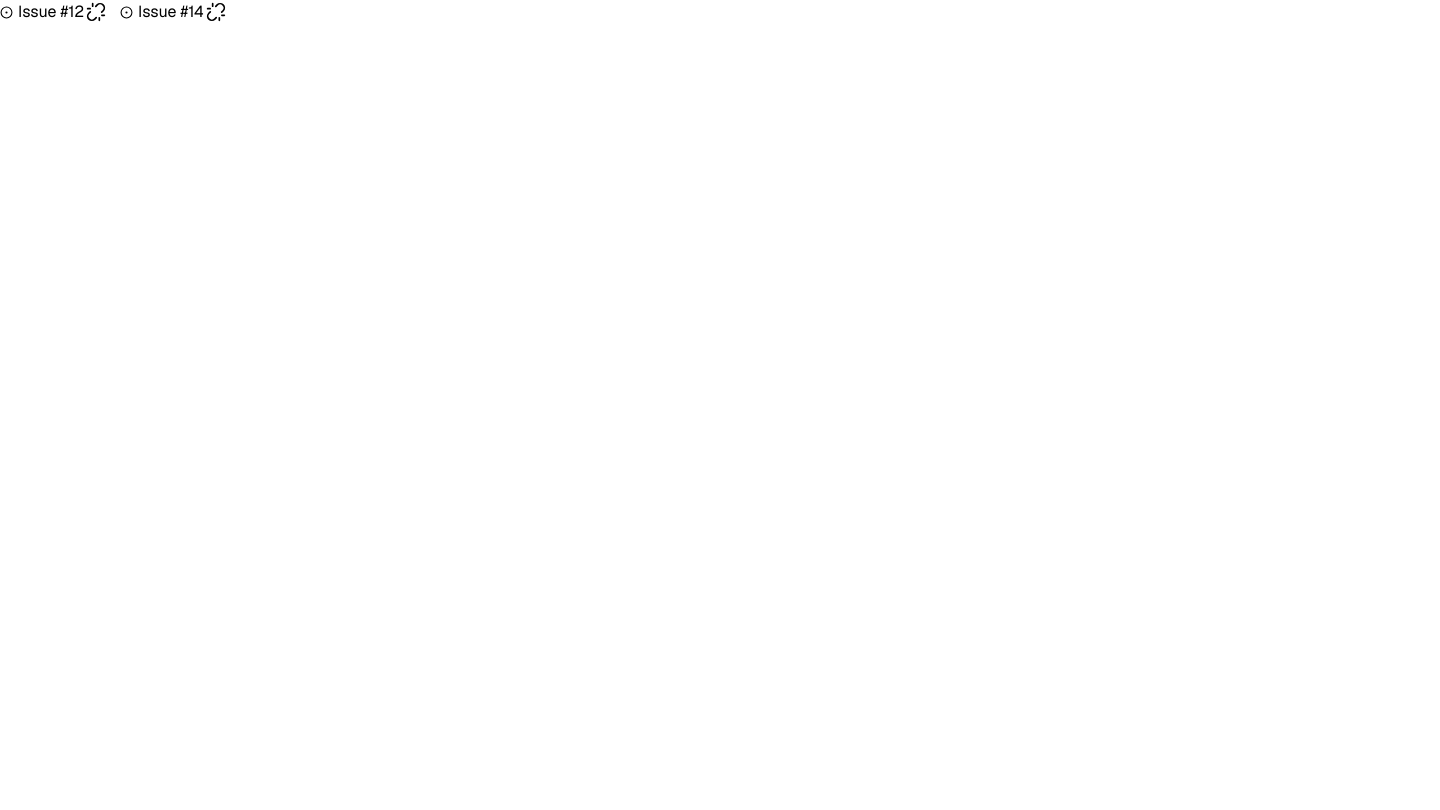
Test: on a run, each issue has an Unlink button that asks first and then takes the issue off the run
Step 1. Click the button named "Unlink #14" → x=216, y=12, box x1=206 y1=2 x2=226 y2=22
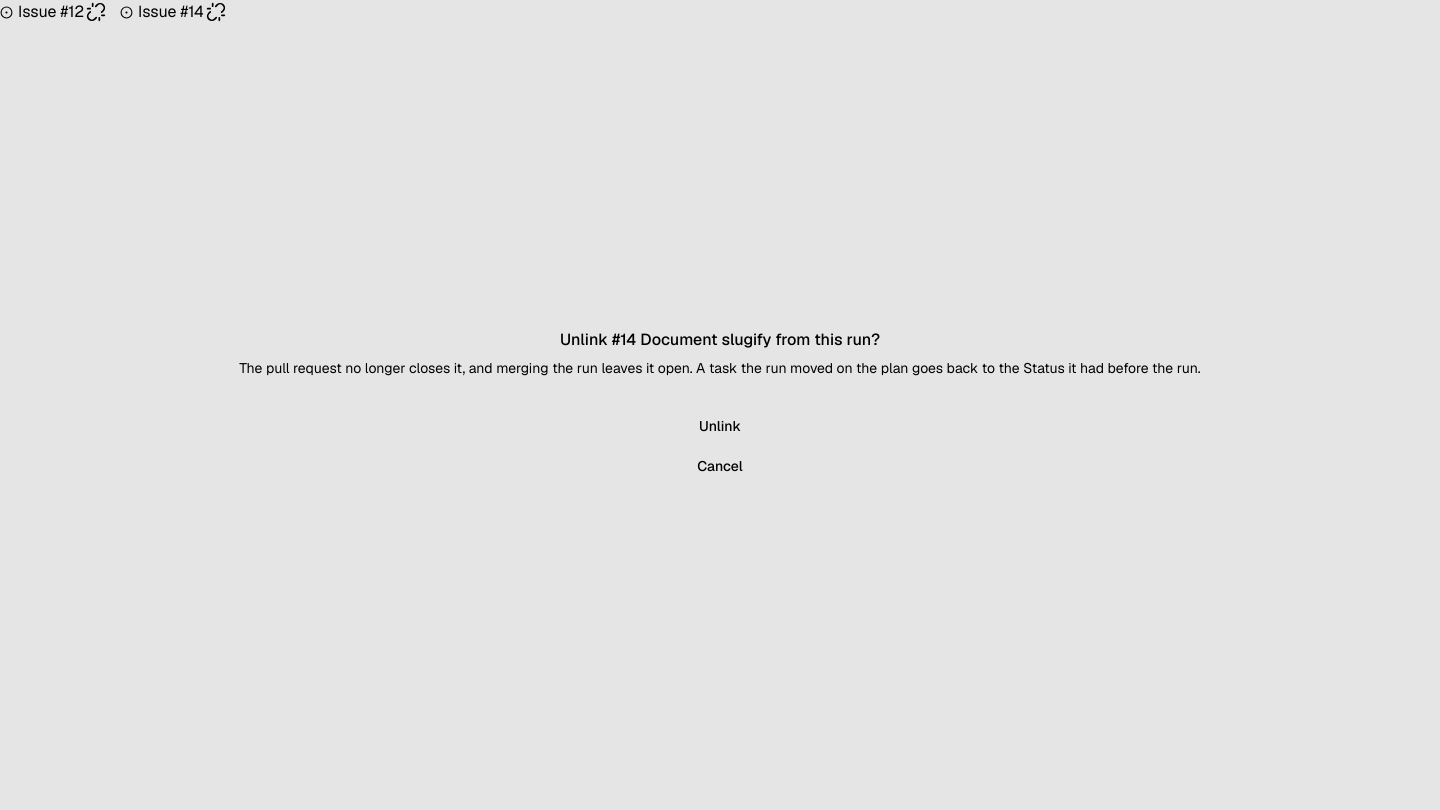
Expected: the dialog "Unlink #14 Document slugify from this run?" shows "The pull request no longer closes it", x1=239 y1=359 x2=1201 y2=377
Step 2. Click the button "Unlink" → x=720, y=426, box x1=16 y1=410 x2=1424 y2=442
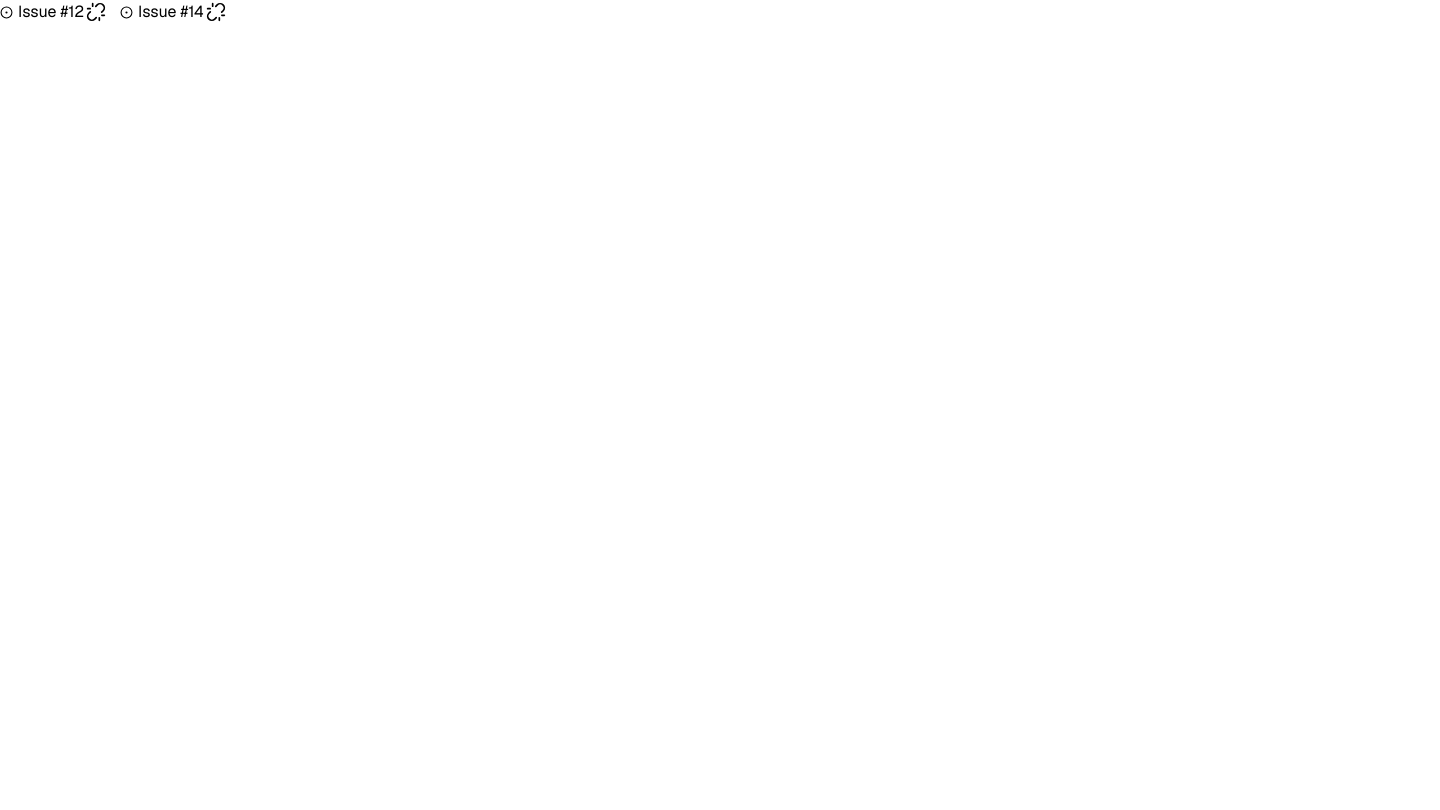
Expected: the dialog is gone
